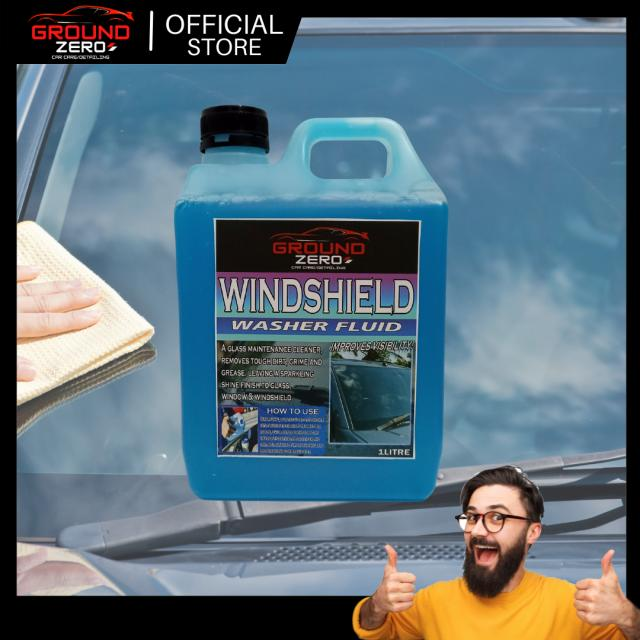winwinshield_washer: (173, 100, 462, 502)
